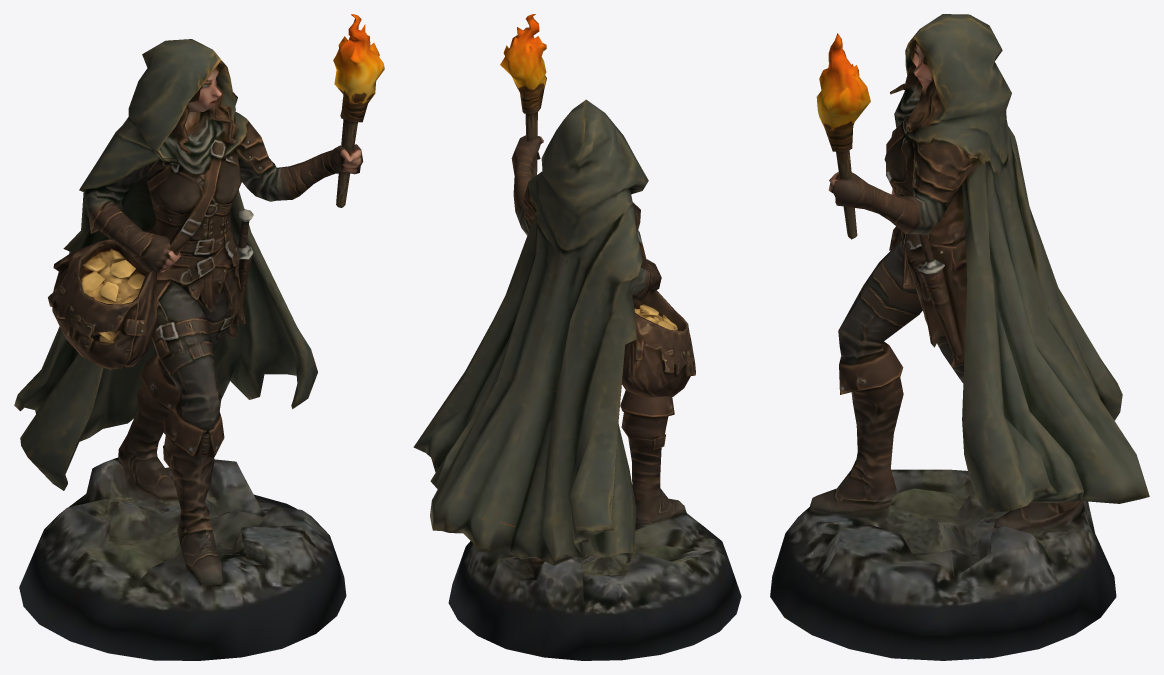
File: hero1.glb
The picture shows the model from 3 angles, left to right: view 1: azimuth 30°, elevation 25°; view 2: azimuth 150°, elevation 25°; view 3: azimuth 270°, elevation 25°; orthographic projection. The views are drawn at different scales.
Parts seen in each view (by area): view 1: geometry_0; view 2: geometry_0; view 3: geometry_0.
Boxes of the visible parts, bbox=[...] form: geometry_0: bbox=[14, 14, 384, 660]; geometry_0: bbox=[413, 14, 741, 660]; geometry_0: bbox=[770, 14, 1149, 660].
Bounding box in the file's own units: 0.525 × 0.9536 × 0.5332.
1 material, 1 textured.
